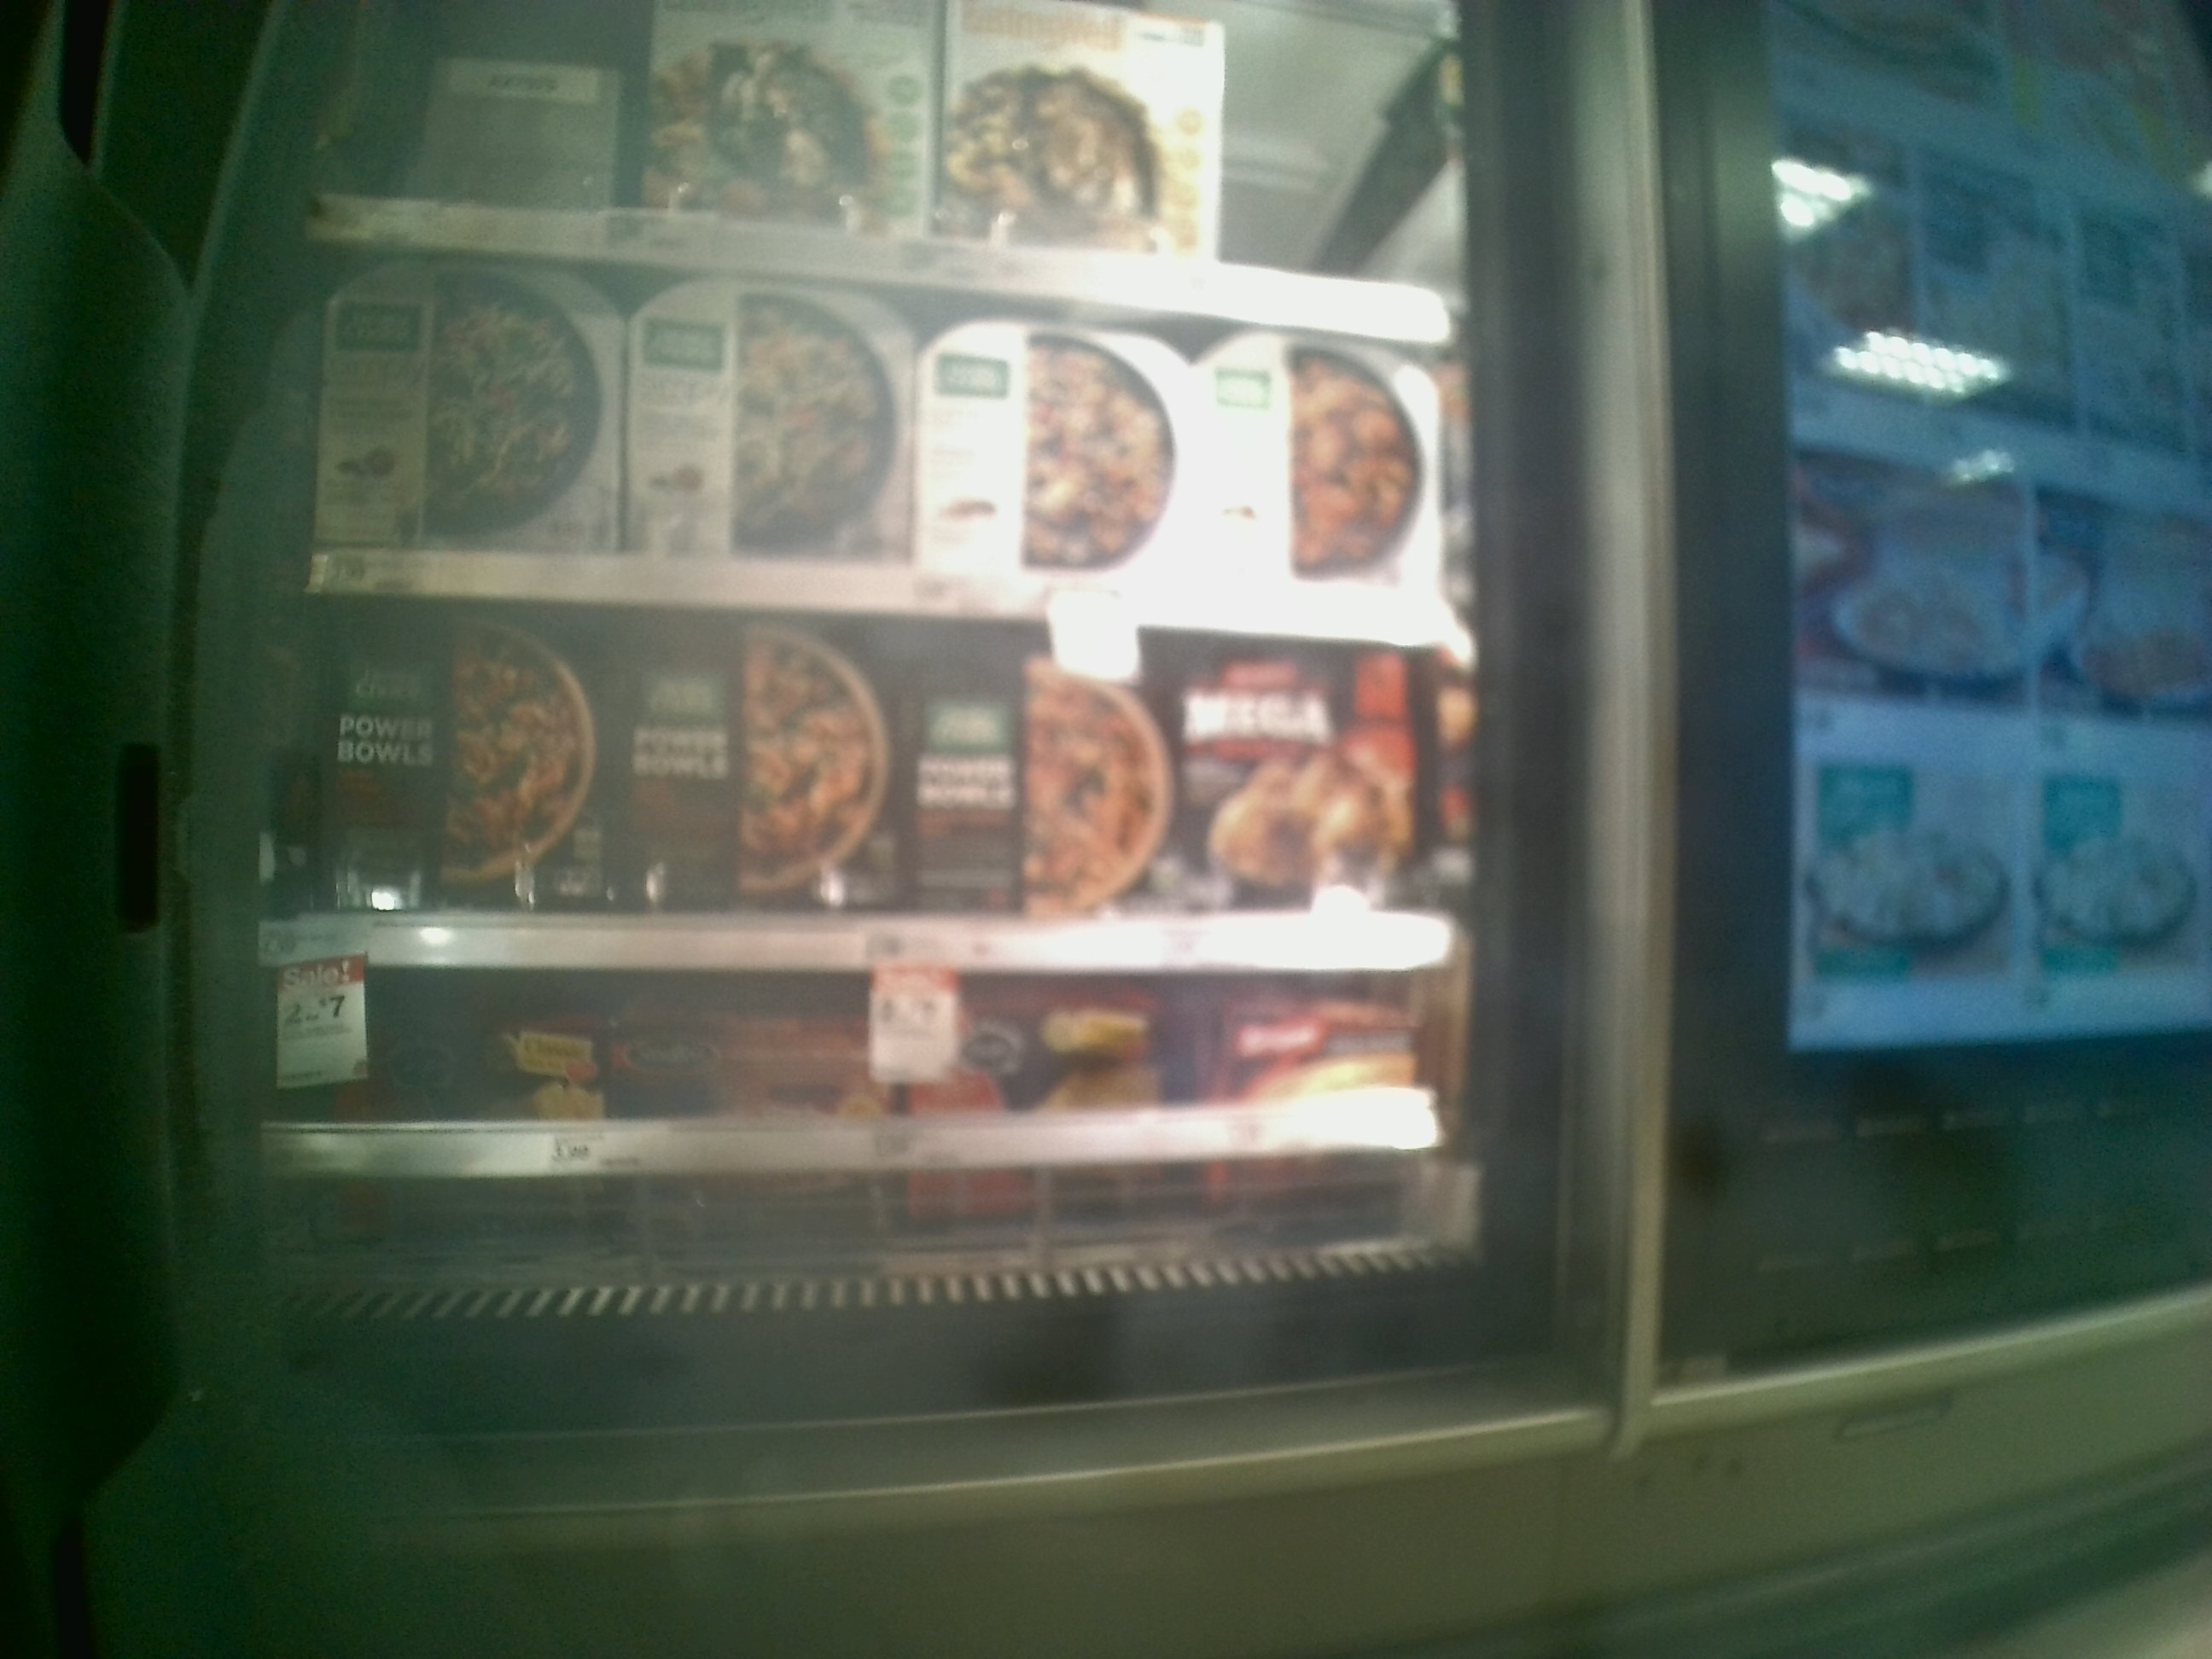pizza: (326, 254, 618, 538), (336, 617, 611, 908), (618, 620, 899, 904), (631, 281, 914, 552), (899, 629, 1163, 908), (948, 14, 1237, 254), (1174, 655, 1435, 908), (923, 324, 1188, 570), (1200, 340, 1456, 580), (646, 0, 923, 220)
